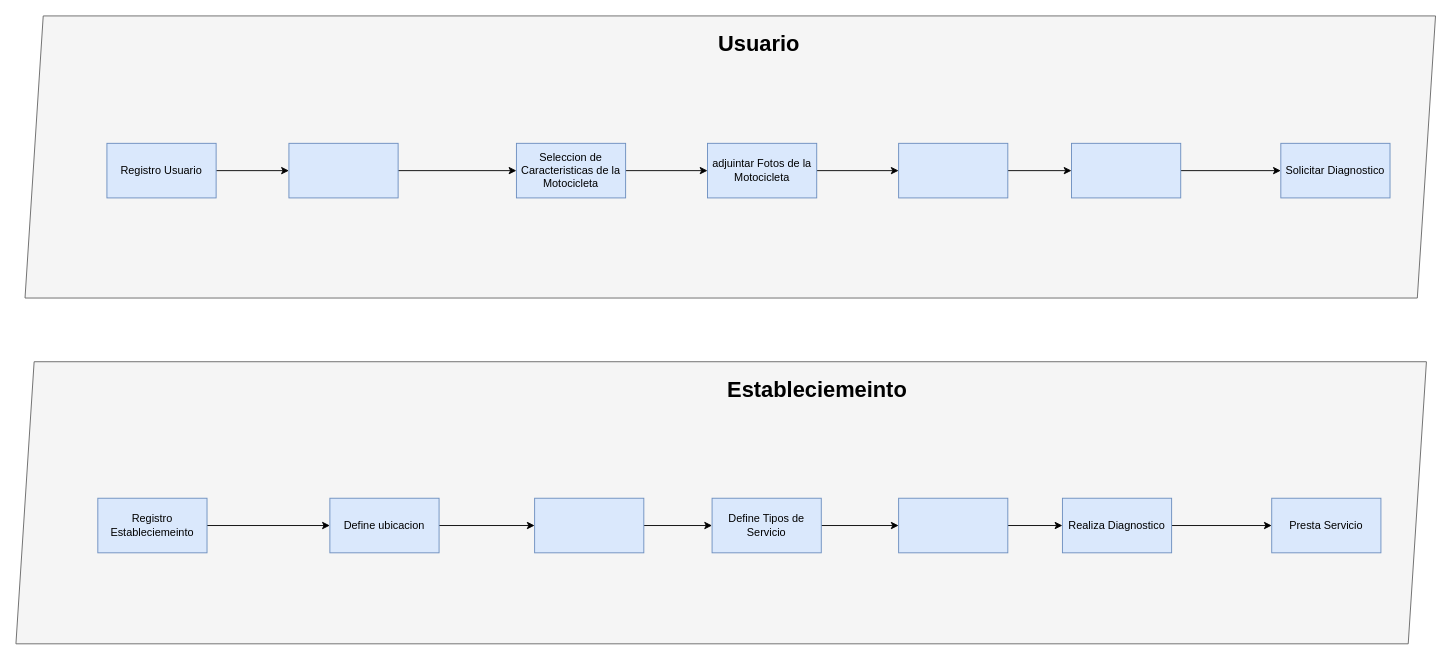
This 1451x660 diagram has some shape labels left out. Each missing label, with the centre of its shape:
Buscar Servicio: [953,170]
Configura Horario: [589,525]
Gestiona Disponibilidad: [953,525]
Registro Motocicleta: [343,170]
Seleccionar Servicio: [1126,170]
